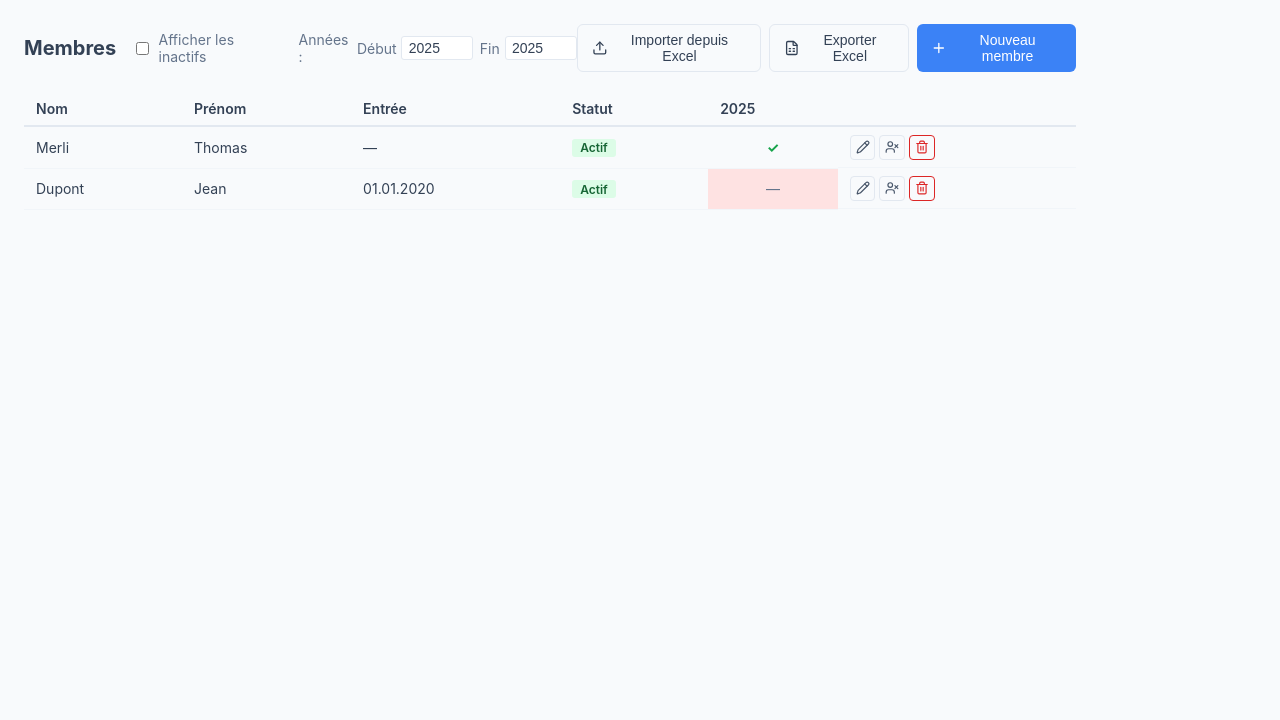
Scenario: MembresPage › importe depuis Excel et affiche le résultat
Click the button "Importer depuis Excel". click: (669, 48)
box: [576,24,761,72]
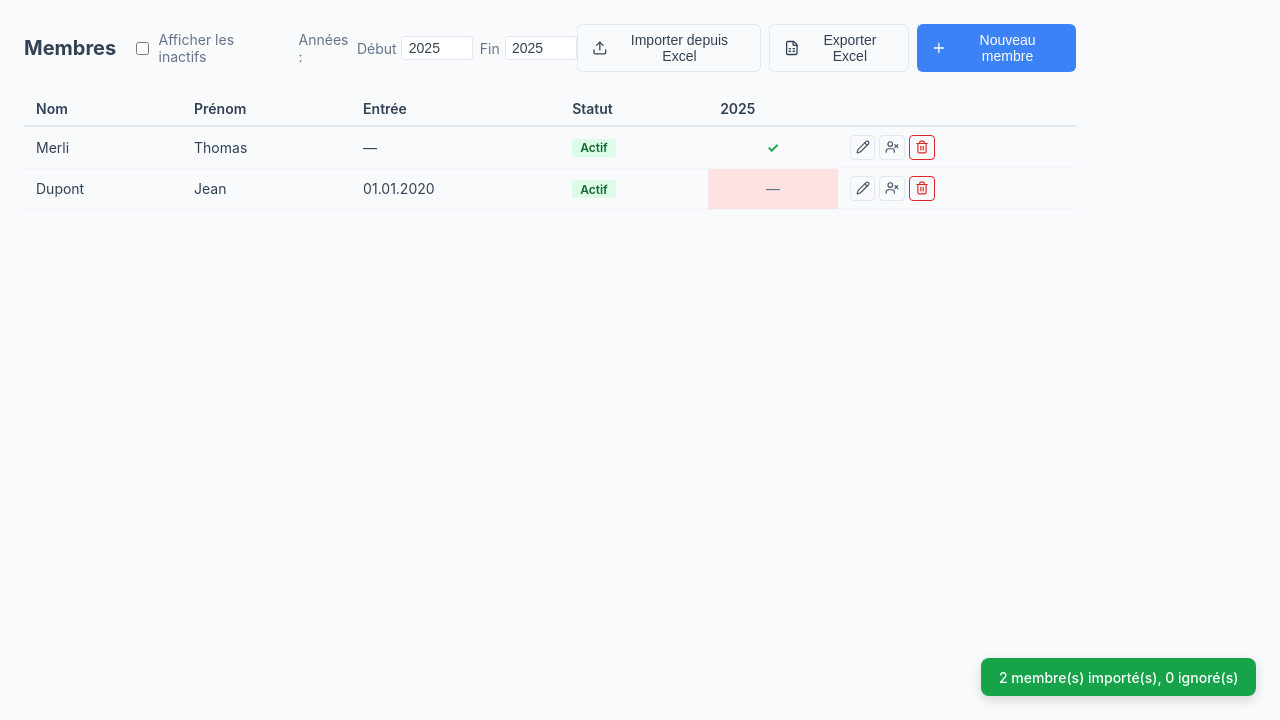
Expected: the text "2 membre(s) importé(s), 0 ignoré(s)" is shown, [981,658,1256,696]
